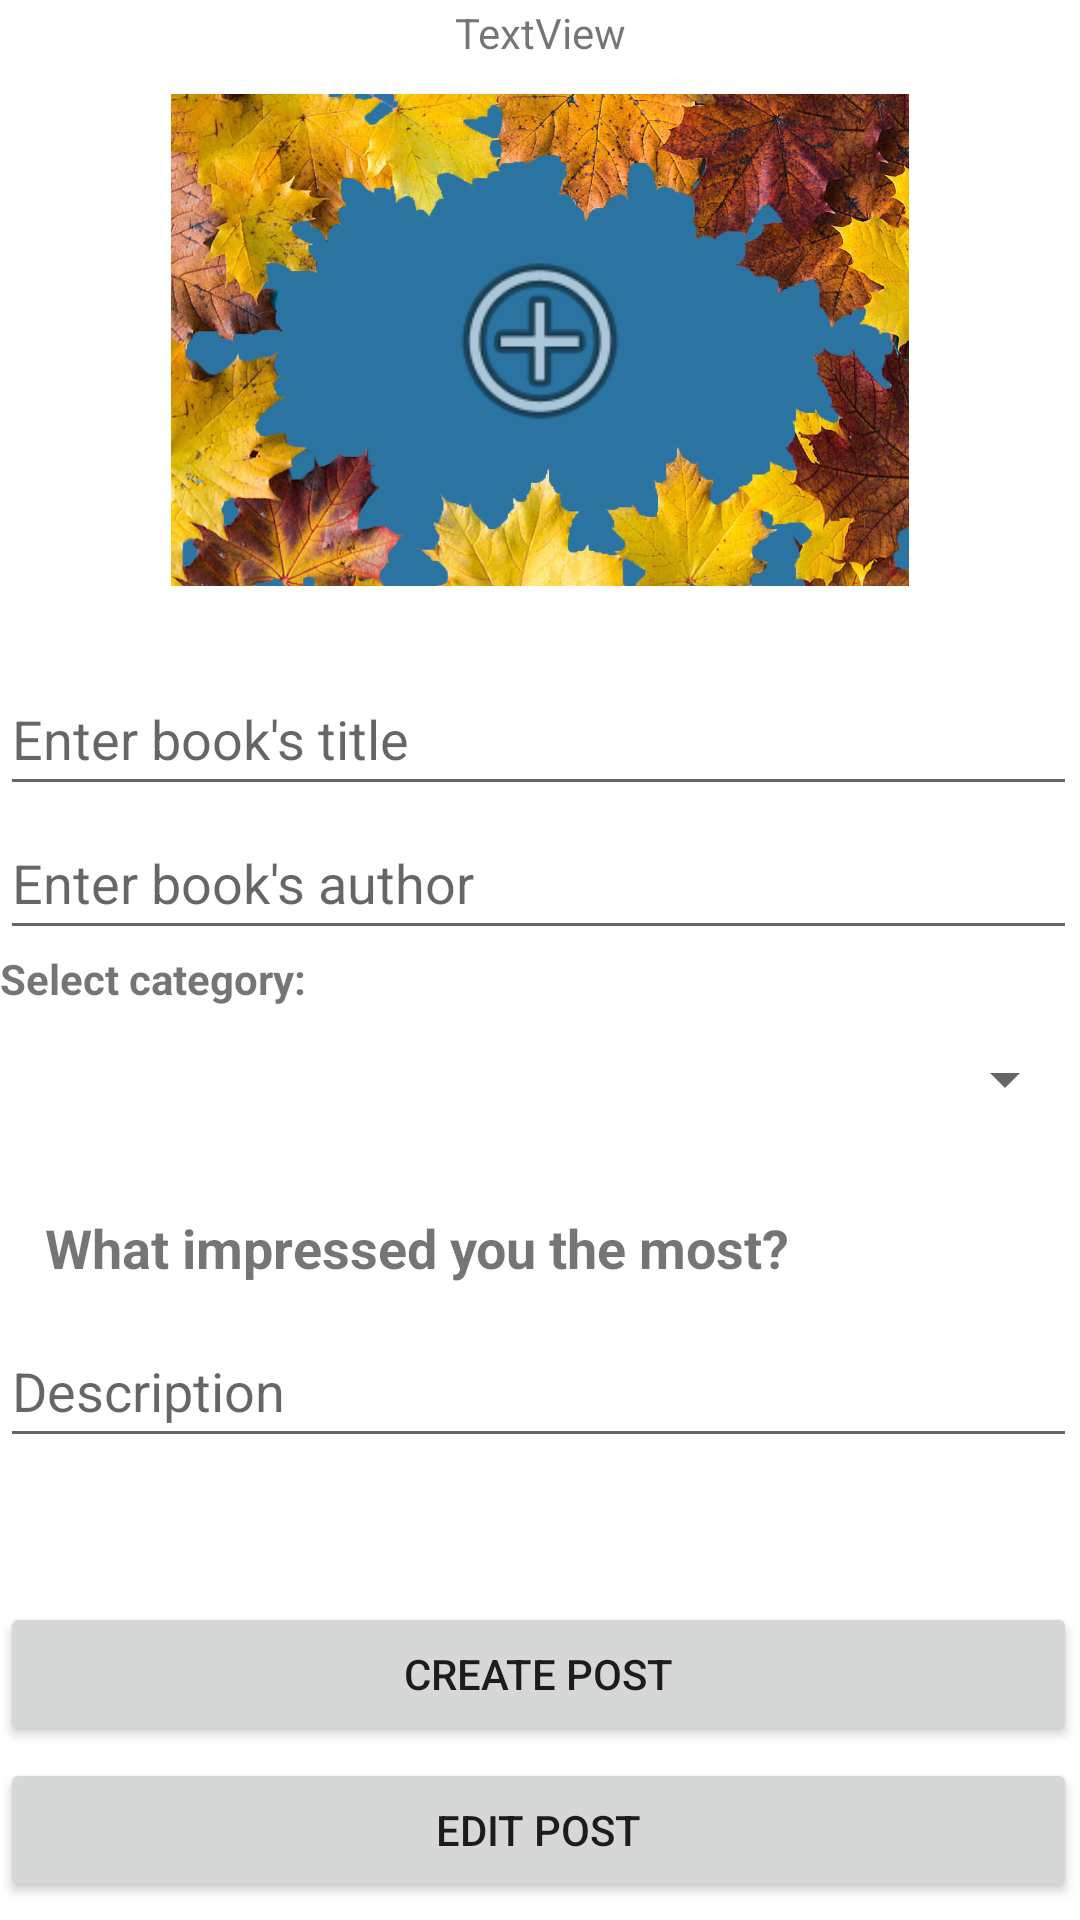

Icon bounding boxes for this 1080w x 1920h phone screenshot, format box(x1, y1, x2, y2):
add: box(462, 263, 618, 419)
